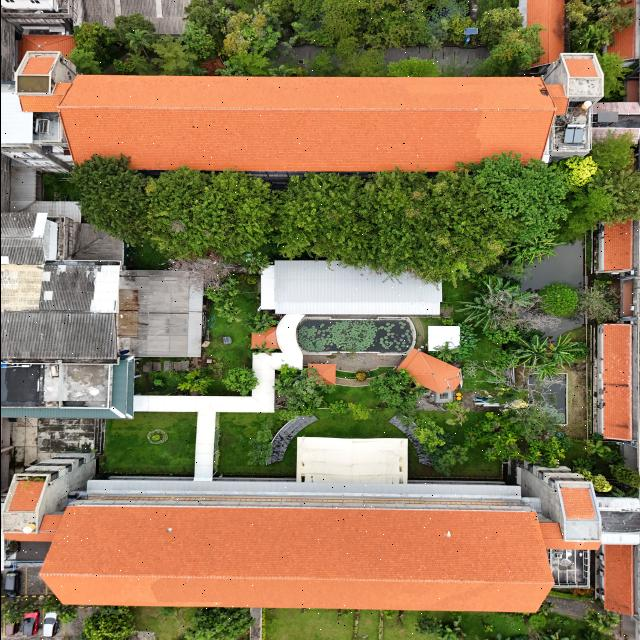Tree: (372, 365, 426, 413), (538, 282, 582, 322), (560, 153, 600, 190), (218, 366, 260, 401), (410, 420, 445, 452), (514, 338, 552, 364), (345, 402, 375, 422)
